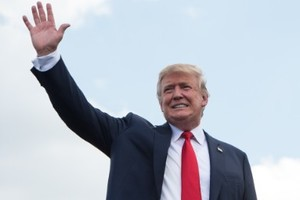open_hand: (18, 3, 79, 64)
